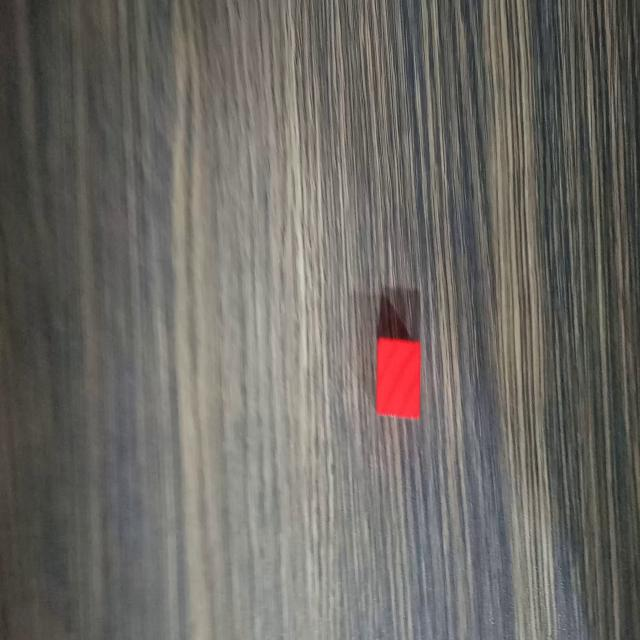cube: (371, 323, 424, 422)
